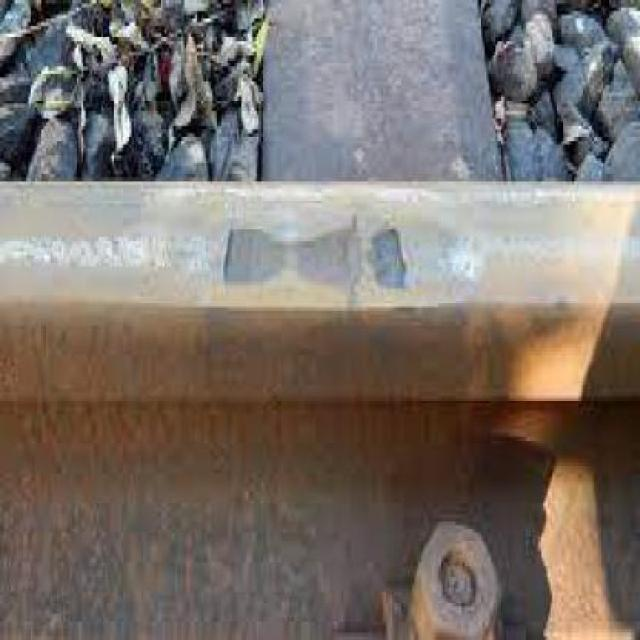defective: (0, 138, 640, 424)
